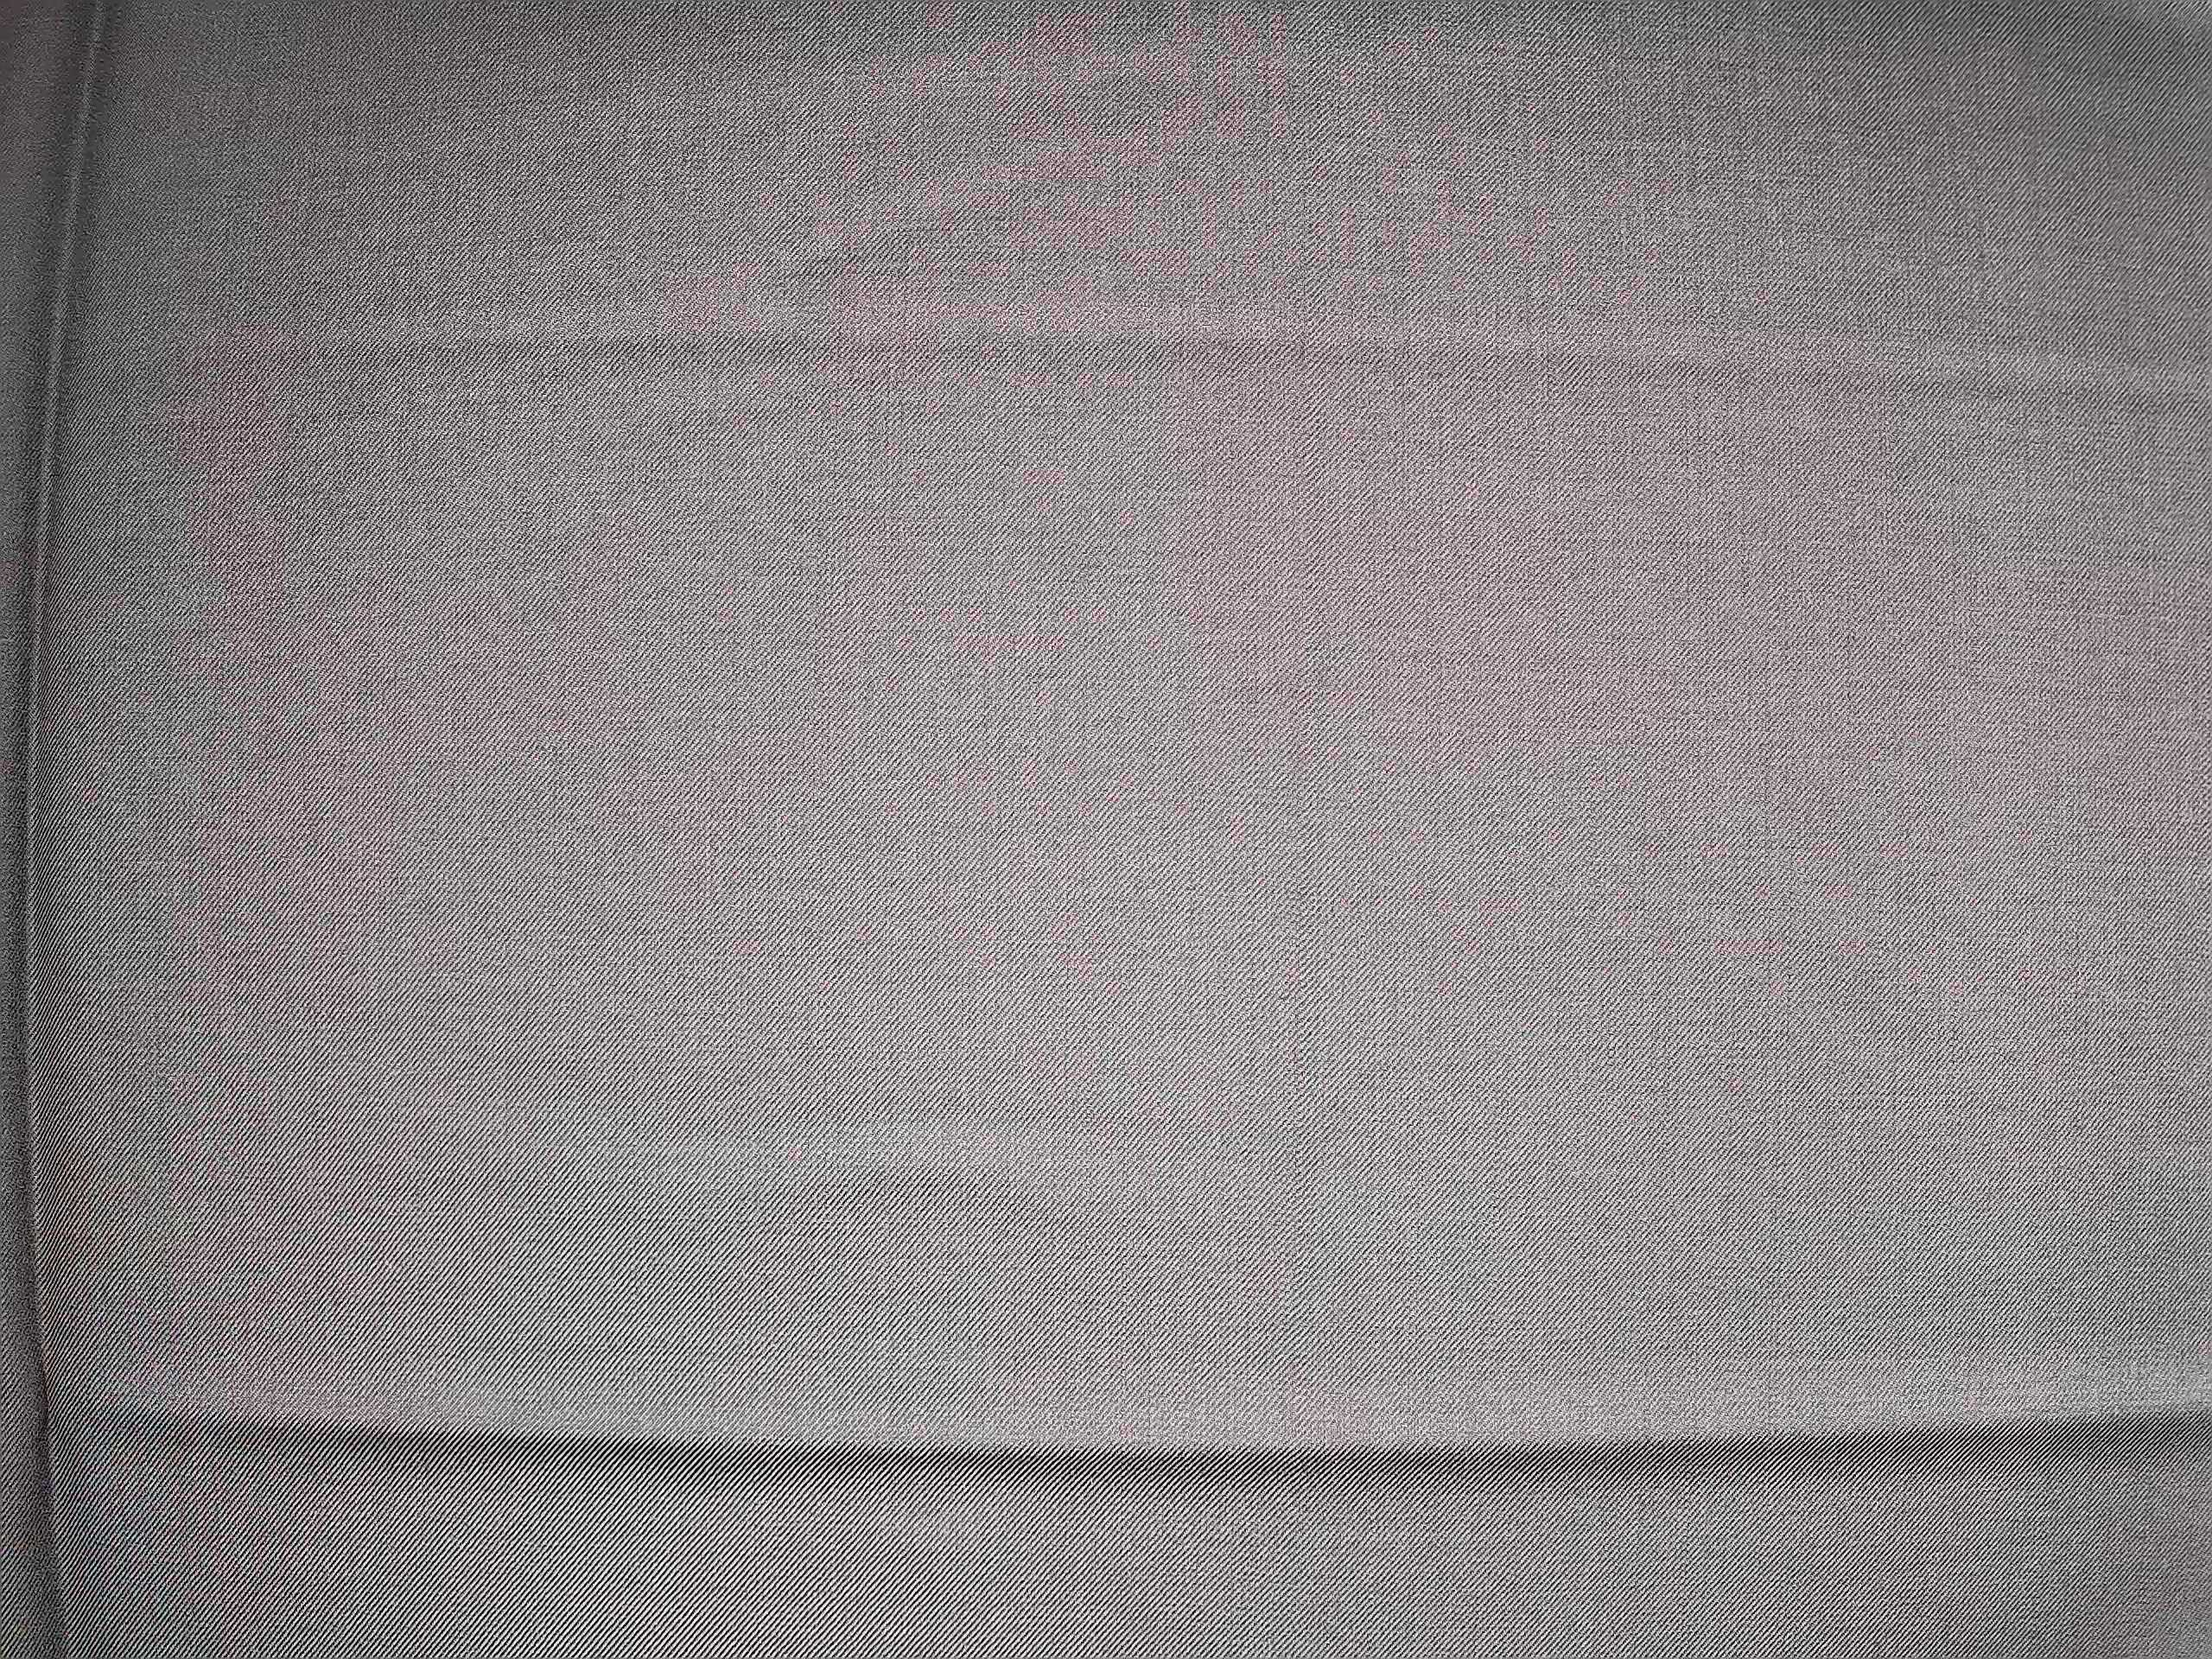hanging-warp: (1277, 756, 1318, 1255)
